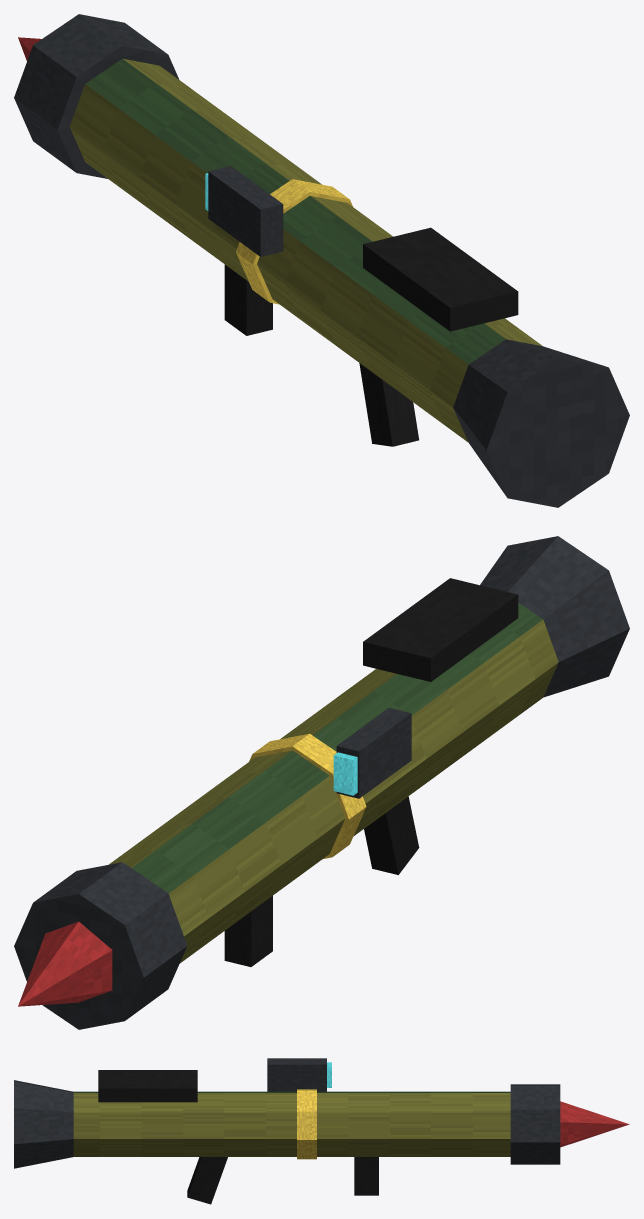
File: weapon_rocket_launcher.glb
3 views of the same model, one above another, from view 1: azimuth 30°, elevation 25°; view 2: azimuth 150°, elevation 25°; view 3: azimuth 270°, elevation 25° (orthographic). The views are drawn at different scales.
Parts seen in each view (by area): view 1: weapon_rocket_launcher; view 2: weapon_rocket_launcher; view 3: weapon_rocket_launcher.
Boxes of the visible parts, left/top/right/bottom form: weapon_rocket_launcher: left=14, top=14, right=629, bottom=507; weapon_rocket_launcher: left=14, top=536, right=629, bottom=1029; weapon_rocket_launcher: left=14, top=1058, right=629, bottom=1204.
Size of the model in its own units: 0.195 by 0.27 by 1.24.
2 materials, 2 textured.
